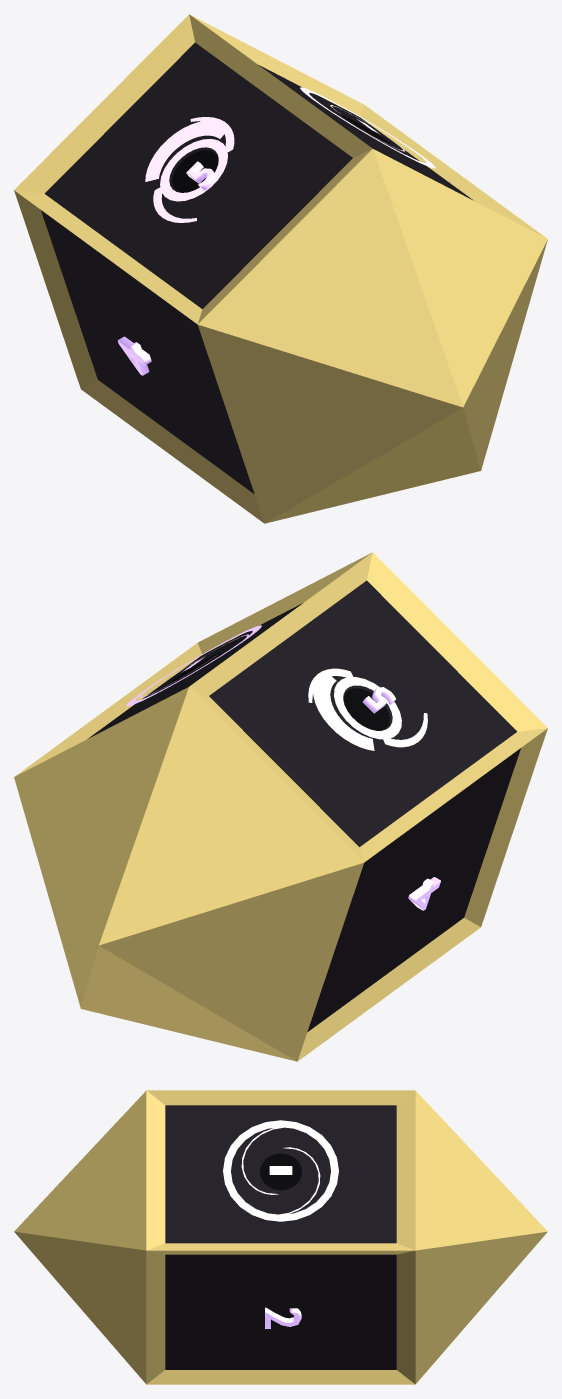
File: d5_black_hole_gold.glb
3 renders of one model, top to bottom at view 1: azimuth 30°, elevation 25°; view 2: azimuth 150°, elevation 25°; view 3: azimuth 270°, elevation 25°, orthographic. The views are drawn at different scales.
Parts seen in each view (by area): view 1: D5_BlackHole_Gold; view 2: D5_BlackHole_Gold; view 3: D5_BlackHole_Gold.
Boxes of the visible parts, bbox=[...] form: D5_BlackHole_Gold: bbox=[14, 14, 547, 523]; D5_BlackHole_Gold: bbox=[14, 552, 547, 1061]; D5_BlackHole_Gold: bbox=[14, 1090, 547, 1384].
Size of the model in its own units: 4.18 by 4.04 by 7.54.
